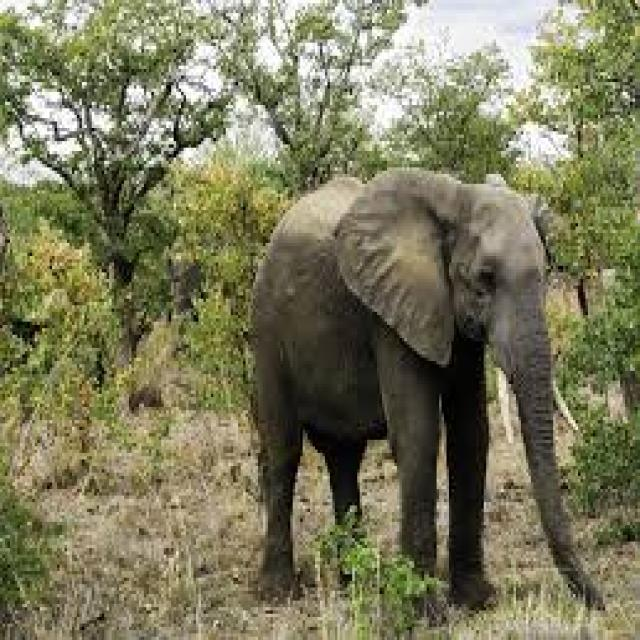Elephant: (246, 164, 605, 614)
